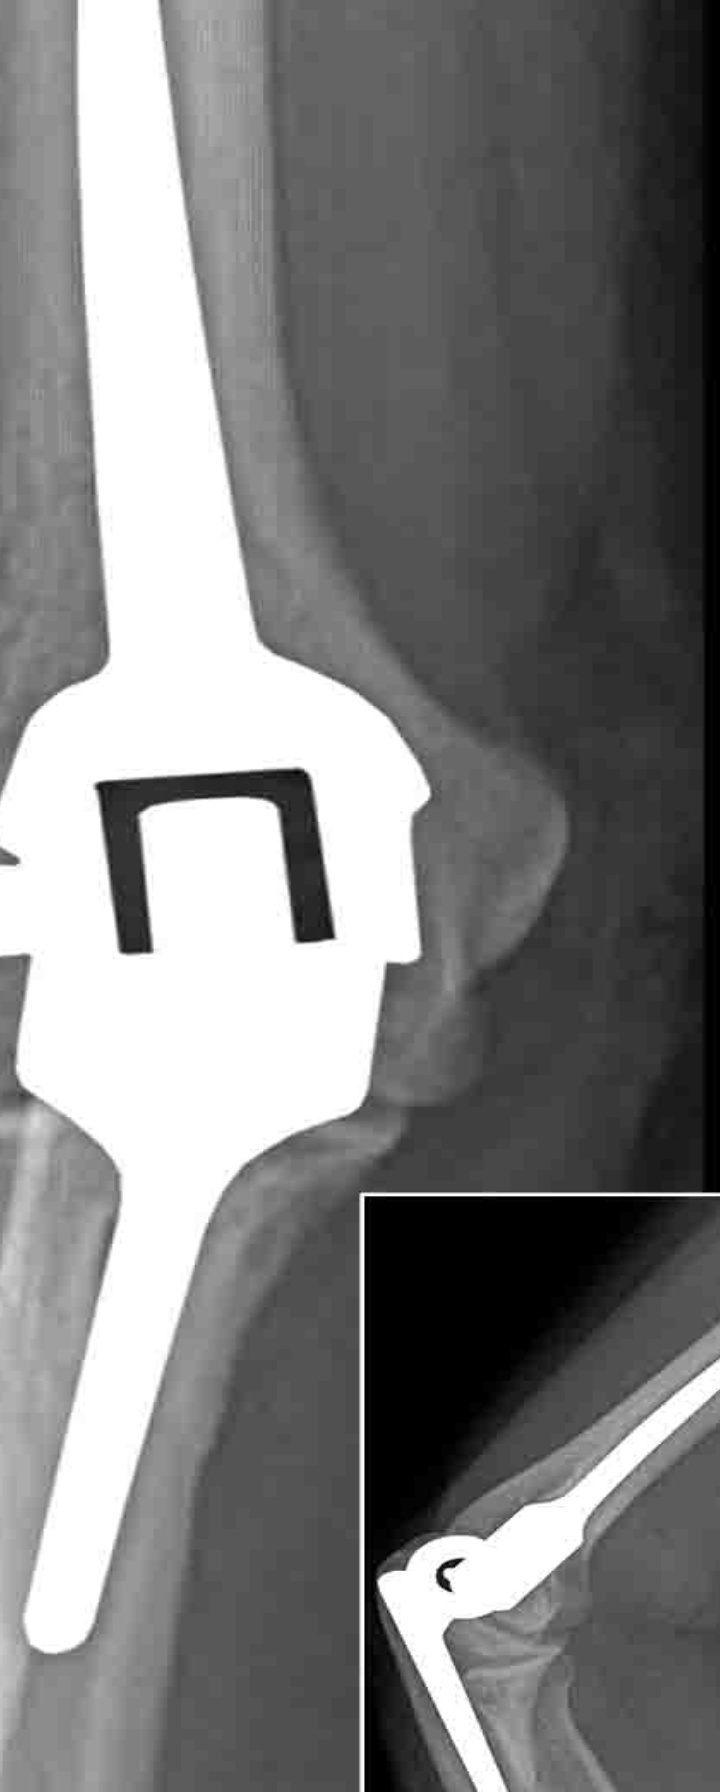Elbow - Osteonics - Stryker: (5, 2, 461, 1525), (368, 1227, 720, 1792)
